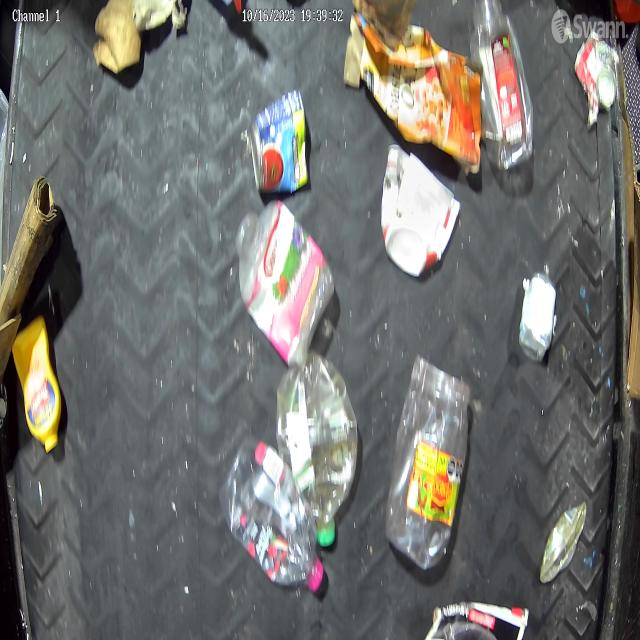can: (250, 87, 310, 194), (517, 267, 558, 364), (574, 35, 618, 114)
plastic_bottle: (220, 432, 325, 618), (275, 349, 359, 551)
